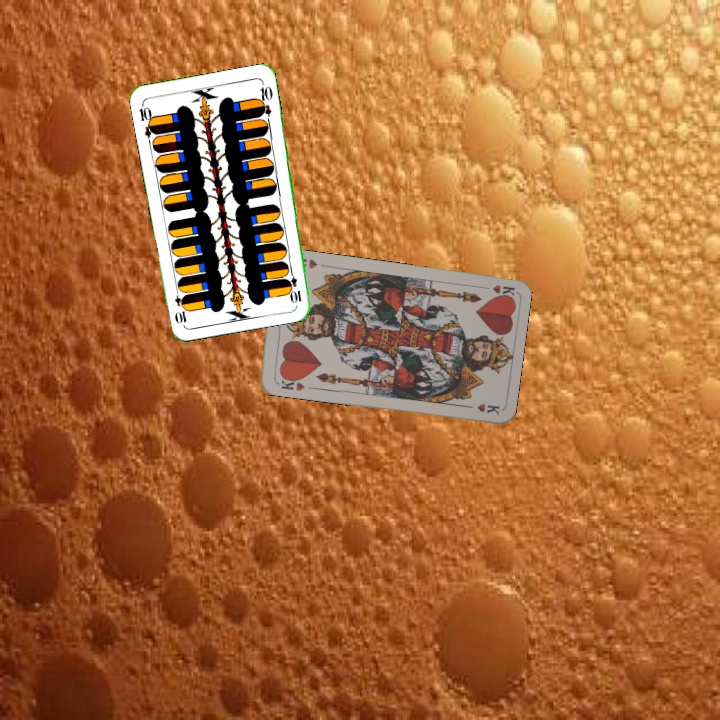E10: (135, 100, 158, 140), (286, 265, 304, 305)
HK: (475, 281, 516, 301), (272, 372, 307, 394)
